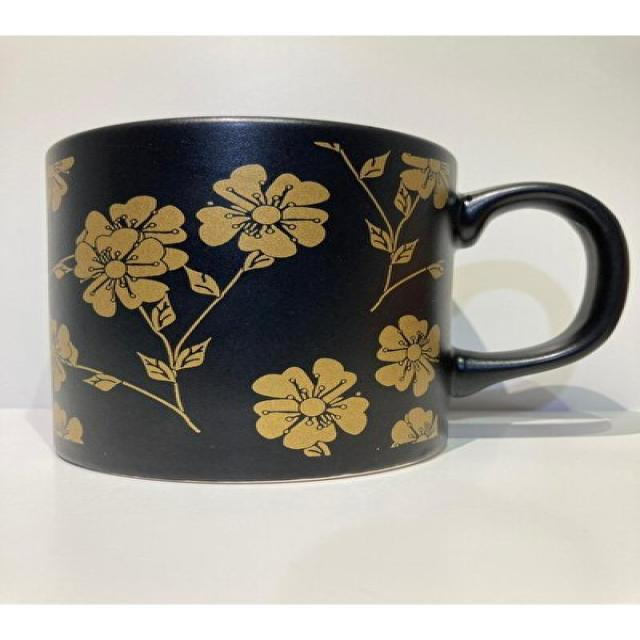Coffee Mug: (44, 112, 630, 486)
